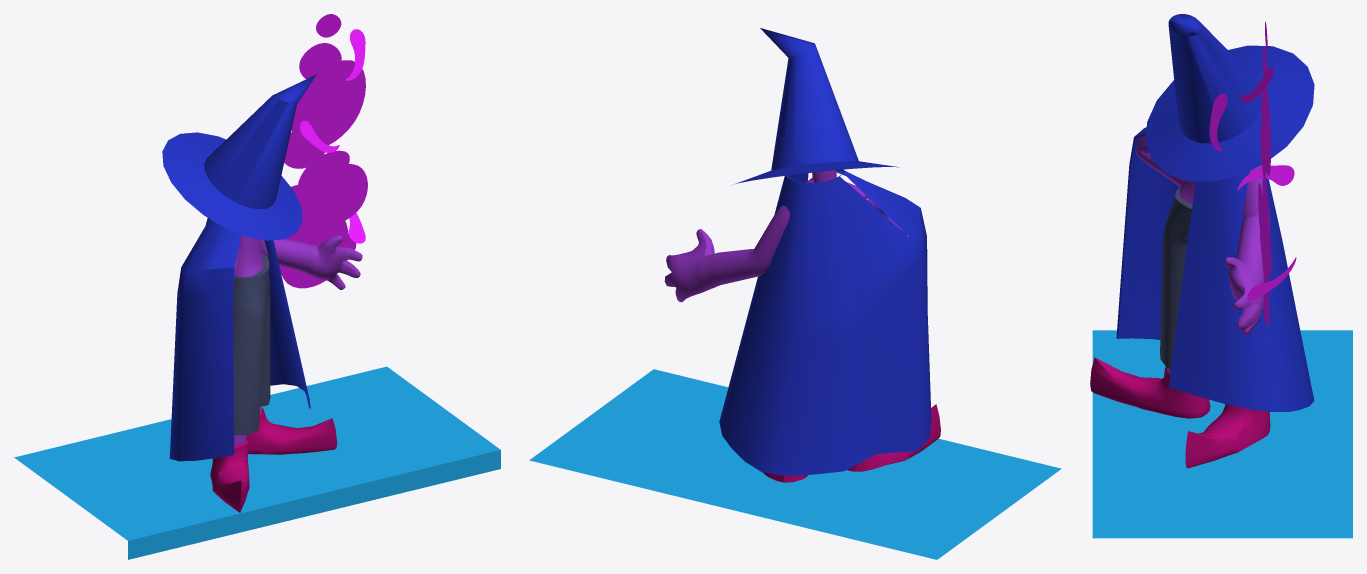
File: Wizard.glb
3 renders of one model, left to right at view 1: azimuth 30°, elevation 25°; view 2: azimuth 150°, elevation 25°; view 3: azimuth 270°, elevation 25°, orthographic. The views are drawn at different scales.
Visible parts, largest first — view 1: Wizard; view 2: Wizard; view 3: Wizard.
Part boxes in pixels (x1,y1,x2,y2): Wizard: [14, 14, 500, 559]; Wizard: [529, 28, 1061, 559]; Wizard: [1090, 14, 1352, 538].
Size of the model in its own units: 2.75 by 2.98 by 1.47.
2 materials, 2 textured.
